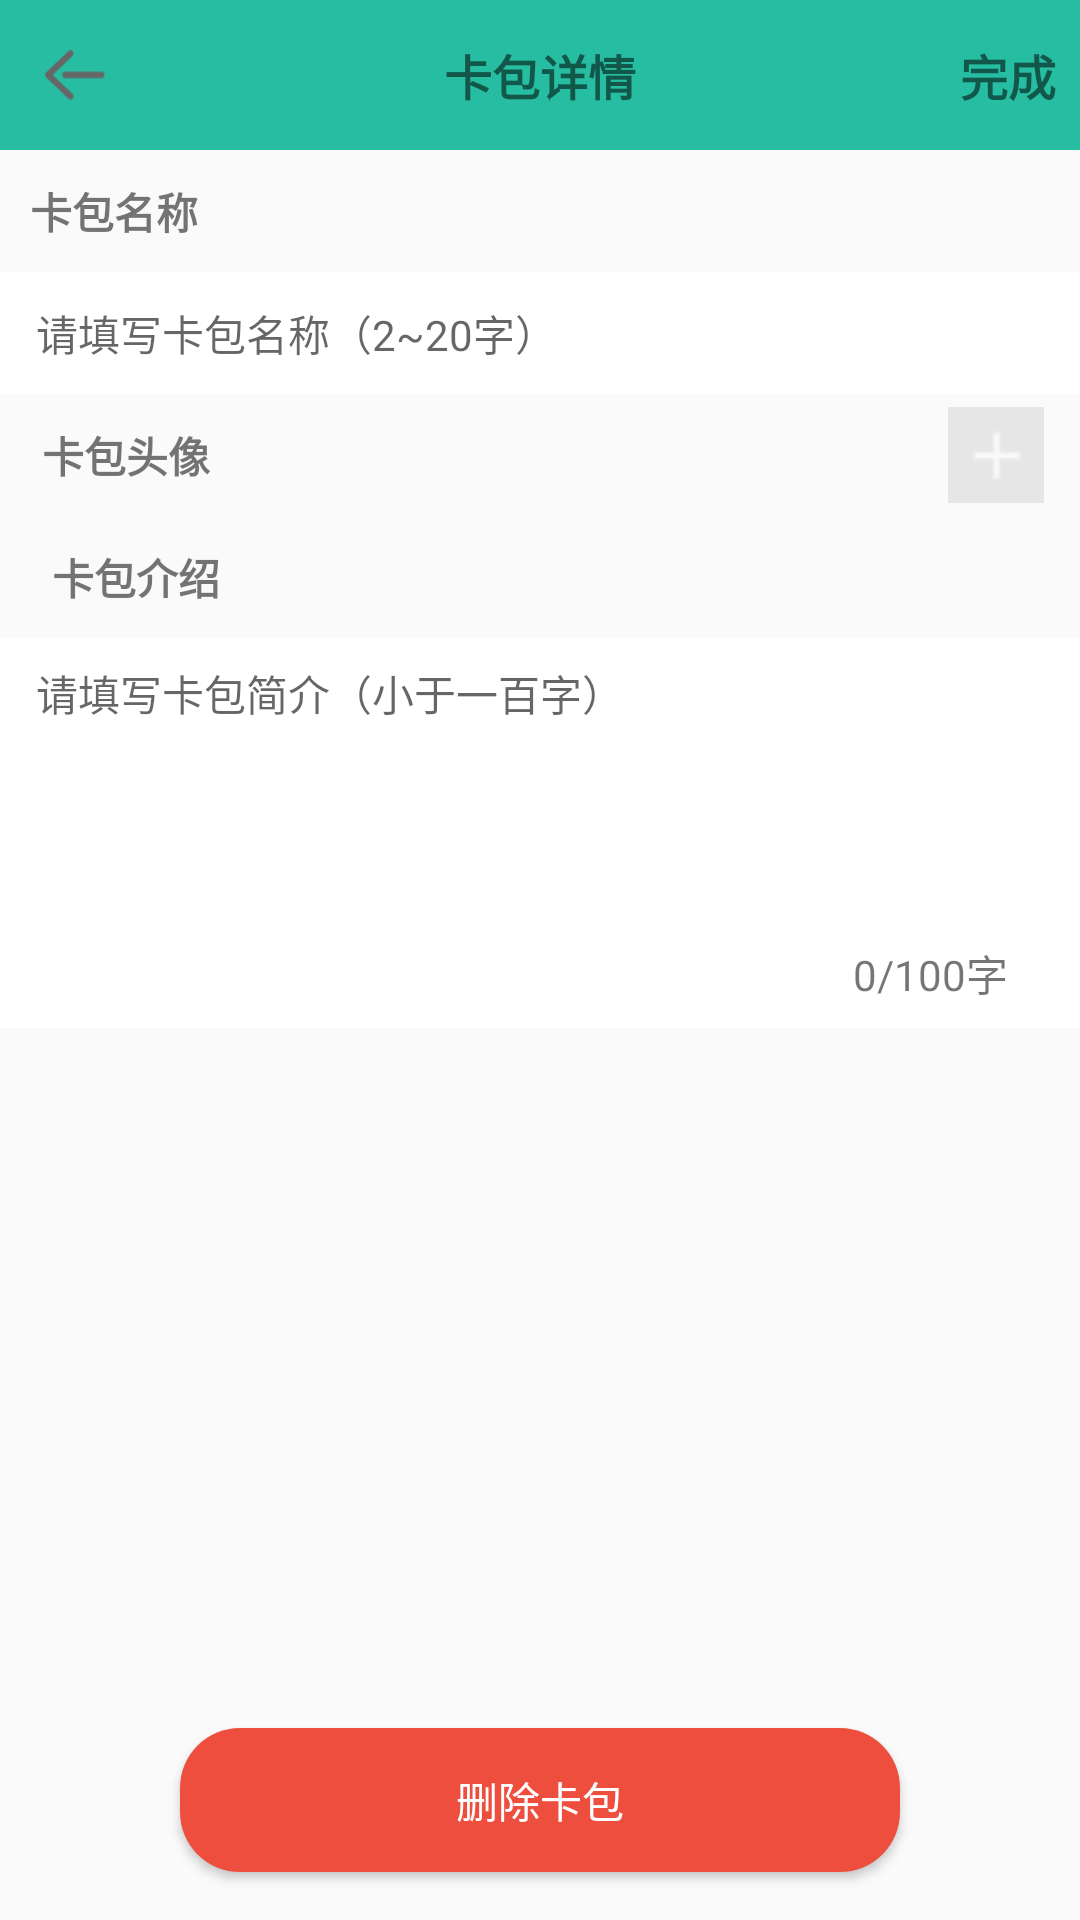

Screen size 1080px x 1920px. Icon name, then its box in pixels as (x1, y1, x2, y2):
back: (45, 50, 105, 100)
